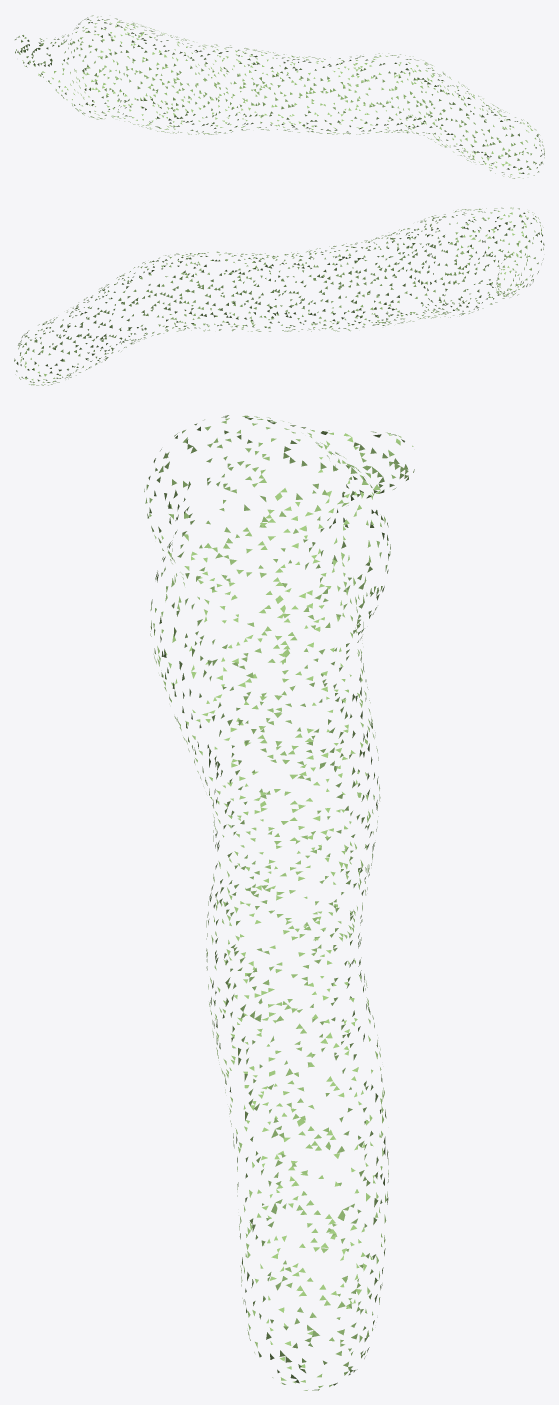
The model's file is morph_013.glb.
The picture shows the model from 3 angles, top to bottom: view 1: azimuth 30°, elevation 25°; view 2: azimuth 150°, elevation 25°; view 3: azimuth 270°, elevation 25°; orthographic projection. The views are drawn at different scales.
Size of the model in its own units: 115 by 57.97 by 26.72.
